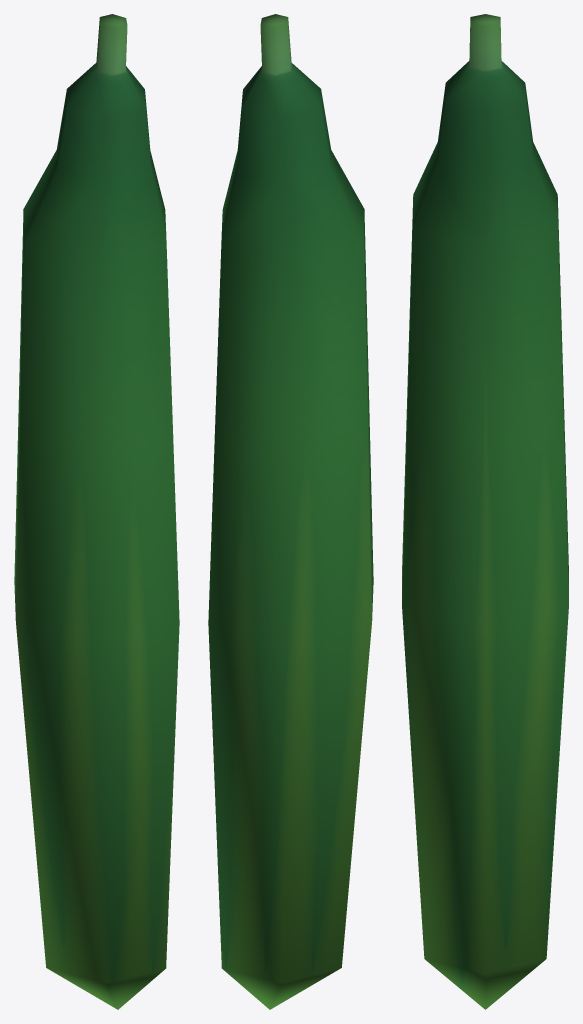
The model's file is Cucumber.FBX.
3 views of the same model, side by side, from view 1: azimuth 30°, elevation 25°; view 2: azimuth 150°, elevation 25°; view 3: azimuth 270°, elevation 25° (orthographic).
Visible parts, largest first — view 1: Cucumber; view 2: Cucumber; view 3: Cucumber.
Part boxes in pixels (x1,y1,x2,y2): Cucumber: [14, 14, 179, 1009]; Cucumber: [208, 14, 373, 1009]; Cucumber: [402, 14, 568, 1009].
Size of the model in its own units: 4.79 by 27.93 by 4.28.
Materials: 1 (1 with a texture image).
